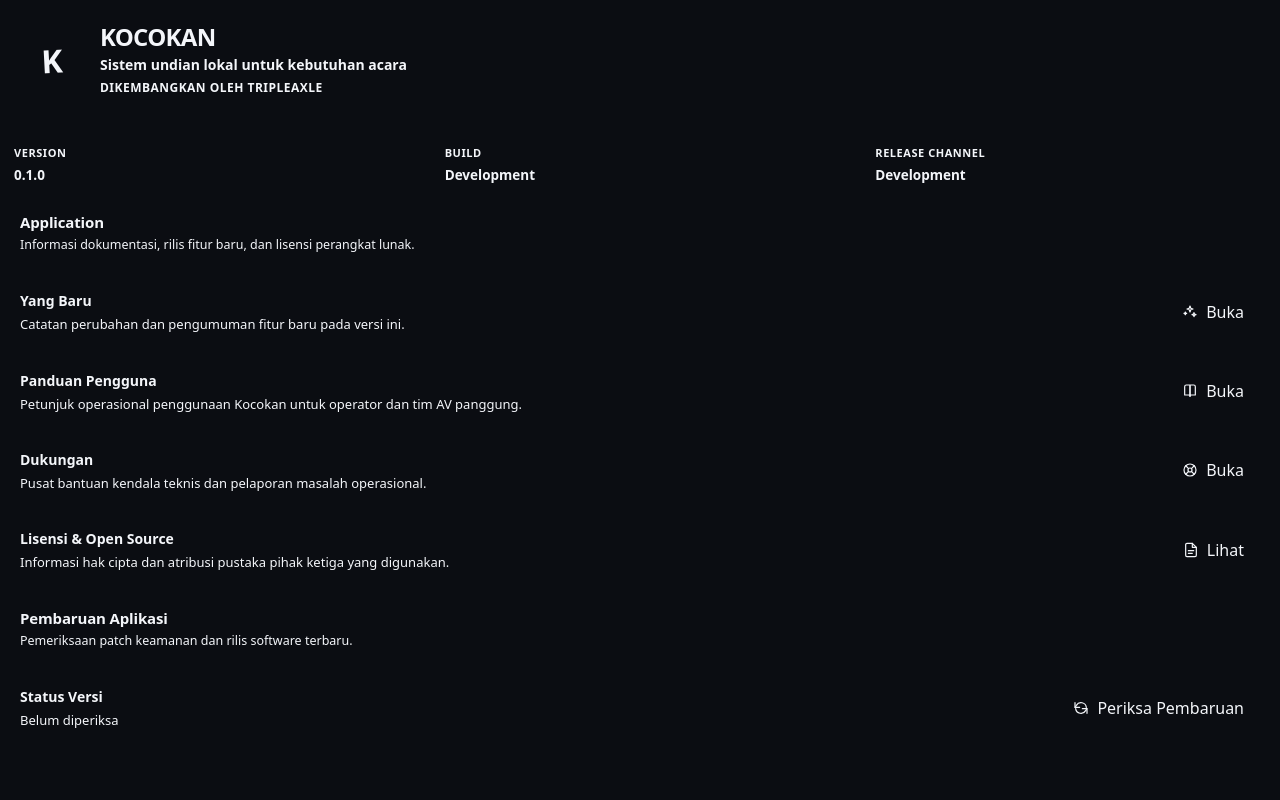
Test case: AboutTab update checker › offers preparation only for an installed and authoritatively safe workspace
The width and height of the screenshot is (1280, 800).
Click the button "Periksa Pembaruan" at (1159, 708), box [1057,688,1260,728]
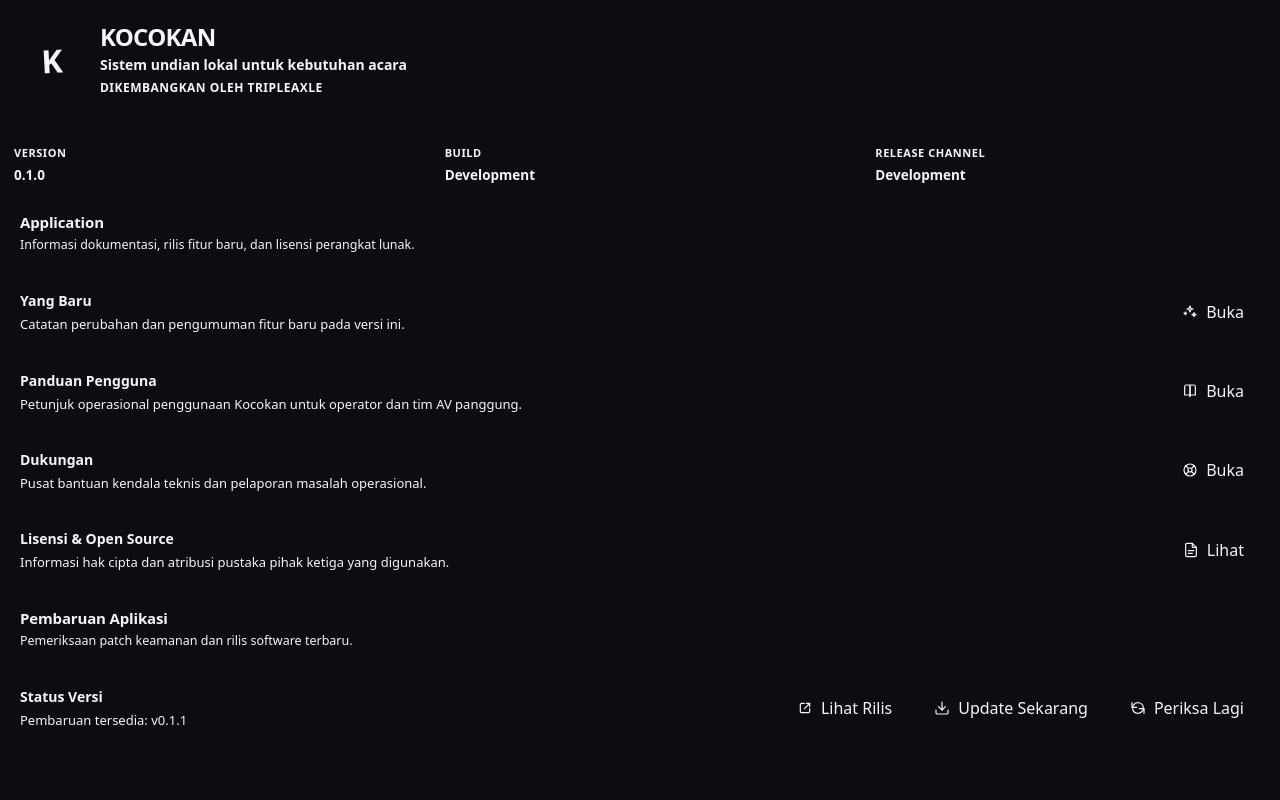
Now the button "Update Sekarang" is enabled, box [918,688,1104,728]
